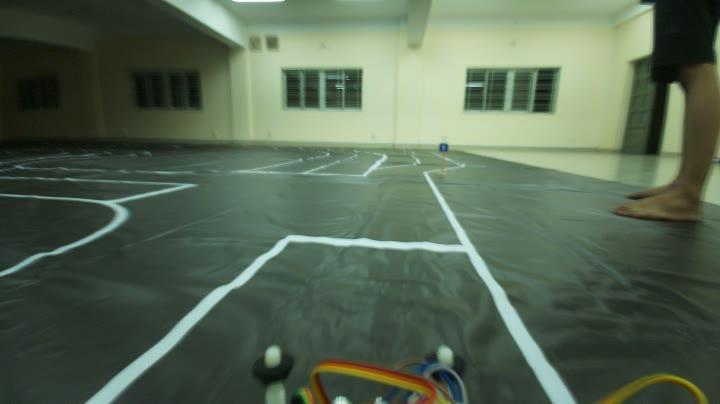onewayroad: (437, 139, 452, 155)
